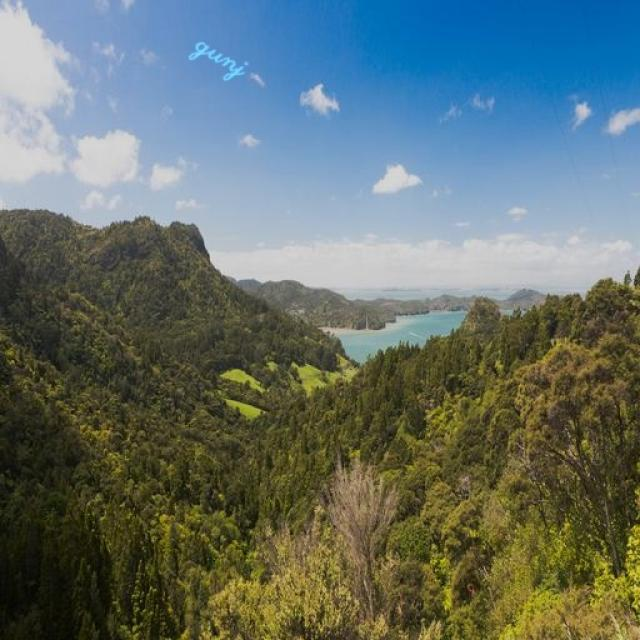watermark: (186, 25, 262, 82)
